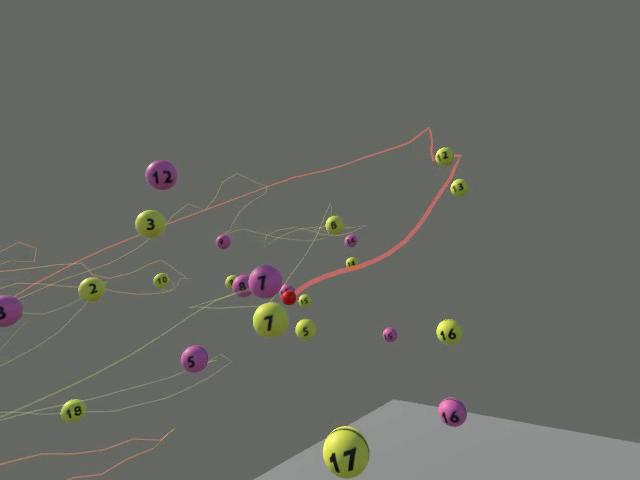ball_02_yellow: (77, 276, 105, 301)
ball_03_yellow: (134, 209, 165, 238)
ball_05_pink: (180, 344, 208, 373)
ball_05_yellow: (294, 318, 316, 340)
ball_07_pink: (248, 264, 282, 298)
ball_07_yellow: (252, 300, 288, 337)
ball_08_yellow: (231, 274, 251, 297), (324, 215, 343, 234)
ball_09_pink: (215, 233, 230, 249)
ball_10_yellow: (152, 272, 170, 288)
ball_12_pink: (145, 159, 177, 189)
ball_12_yellow: (434, 146, 453, 166)
ball_13_yellow: (449, 178, 468, 196)
ball_14_pink: (344, 233, 357, 247)
ball_15_pink: (382, 327, 397, 342)
ball_15_yellow: (297, 292, 311, 306)
ball_16_pink: (437, 397, 466, 426)
ball_16_yellow: (435, 318, 462, 344)
ball_17_yellow: (322, 425, 369, 477)
ball_18_yellow: (59, 398, 86, 422)
ball_unknown: (0, 294, 22, 326), (224, 273, 236, 289), (279, 283, 294, 294), (345, 256, 358, 267)
user_cursor: (280, 287, 296, 303)
